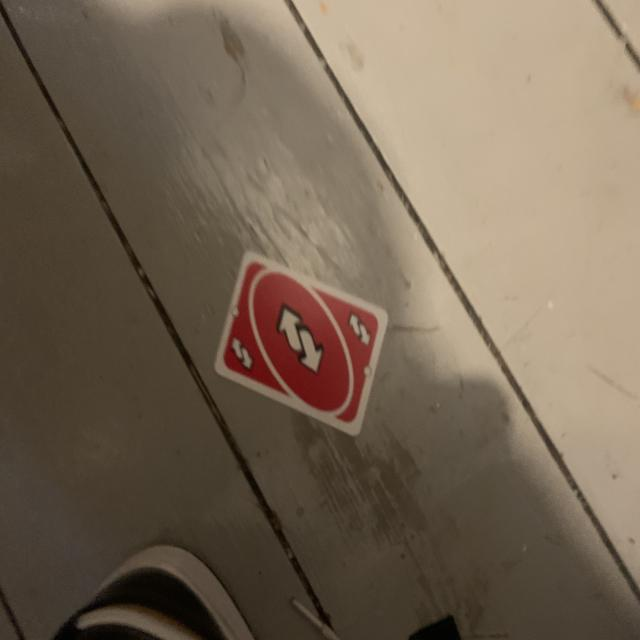lredrevers-20: (347, 307, 376, 349)
